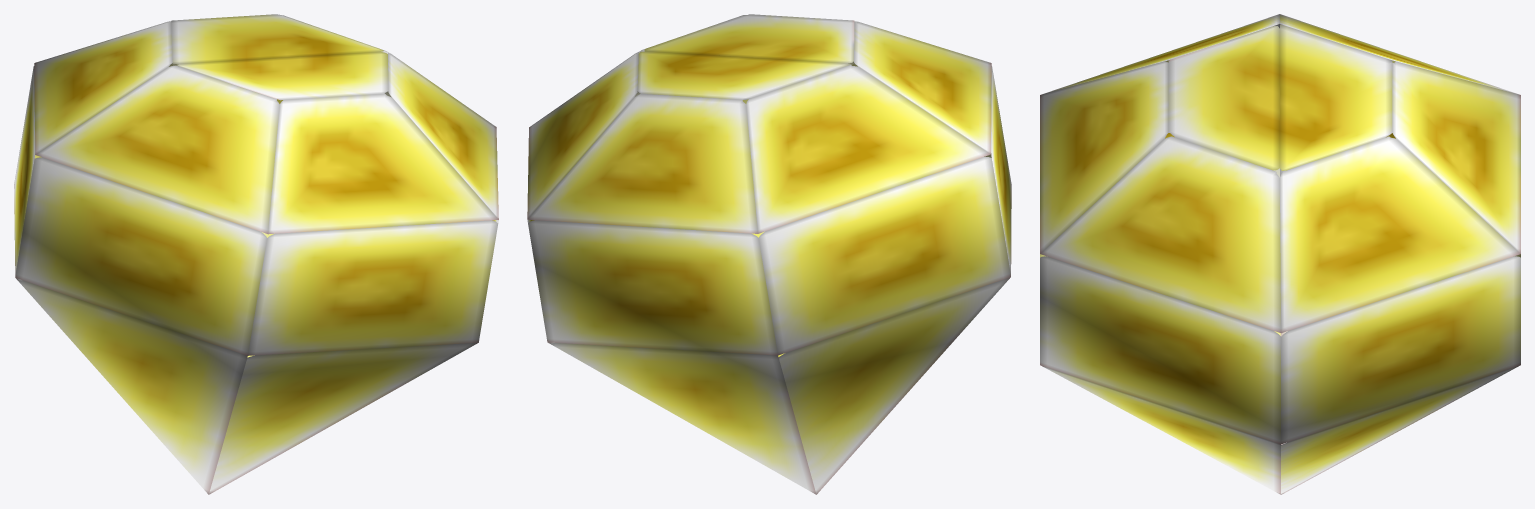
The picture shows the model from 3 angles, left to right: view 1: azimuth 30°, elevation 25°; view 2: azimuth 150°, elevation 25°; view 3: azimuth 270°, elevation 25°; orthographic projection. The views are drawn at different scales.
Parts seen in each view (by area): view 1: T1L7M002_23; view 2: T1L7M002_23; view 3: T1L7M002_23.
Part boxes in pixels (<box>): T1L7M002_23: <box>14,14,498,494</box>; T1L7M002_23: <box>527,14,1011,494</box>; T1L7M002_23: <box>1040,14,1520,494</box>.
Bounding box in the file's own units: 0.4219 × 0.3682 × 0.3545.
